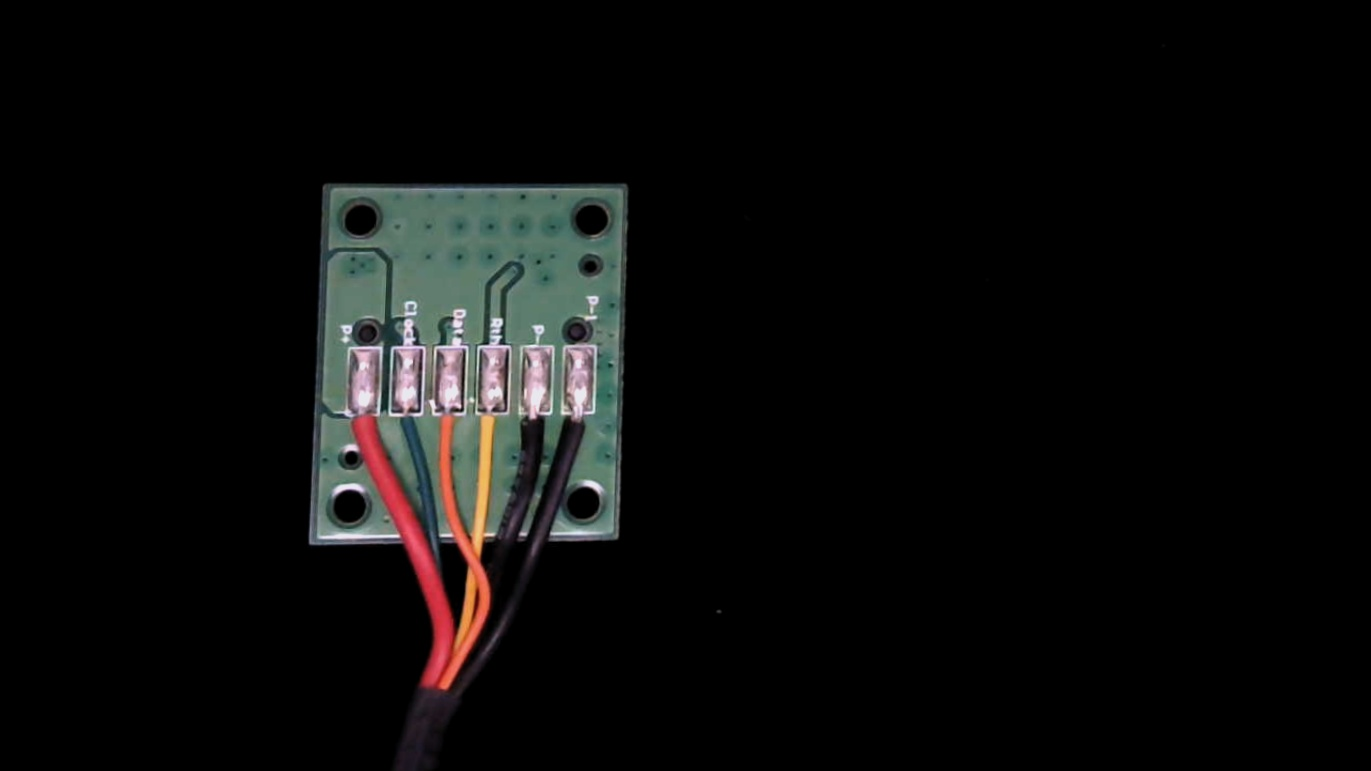Black: (512, 396, 553, 469)
Black1: (561, 396, 597, 463)
Green: (383, 393, 424, 470)
Orange: (428, 394, 467, 473)
Red: (342, 397, 383, 473)
Yellow: (471, 394, 509, 462)
